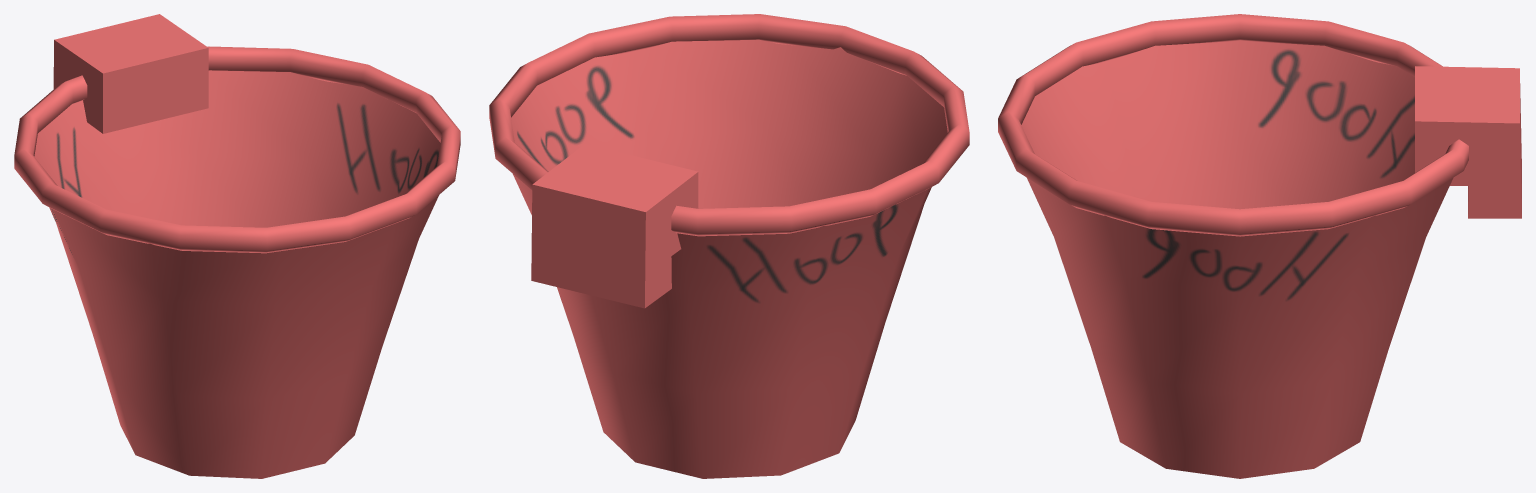
File: SM_Hoop.fbx
3 renders of one model, left to right at view 1: azimuth 30°, elevation 25°; view 2: azimuth 150°, elevation 25°; view 3: azimuth 270°, elevation 25°, orthographic. The views are drawn at different scales.
Visible parts, largest first — view 1: SM_Hoop; view 2: SM_Hoop; view 3: SM_Hoop.
Boxes of the visible parts, x1,y1,x2,y2 form: SM_Hoop: (14, 14, 460, 478); SM_Hoop: (489, 14, 969, 478); SM_Hoop: (998, 14, 1521, 478).
Bounding box in the file's own units: 37.59 × 28.56 × 40.86.
